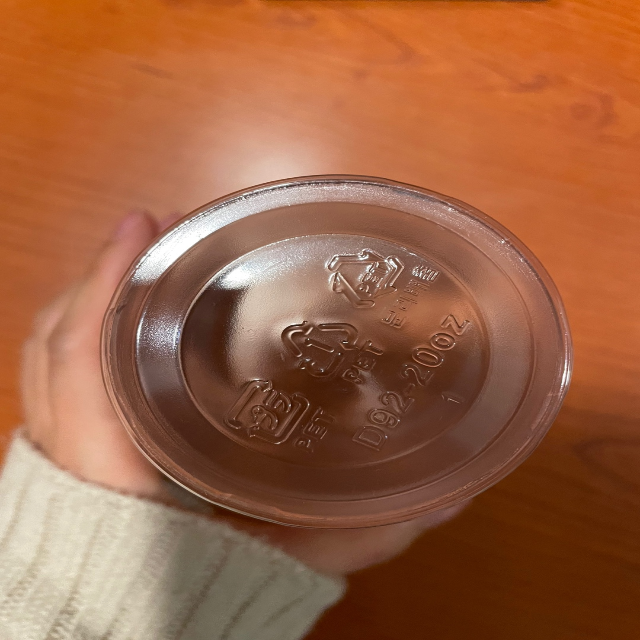pet: (214, 373, 340, 462), (321, 239, 441, 332), (272, 309, 387, 393)
